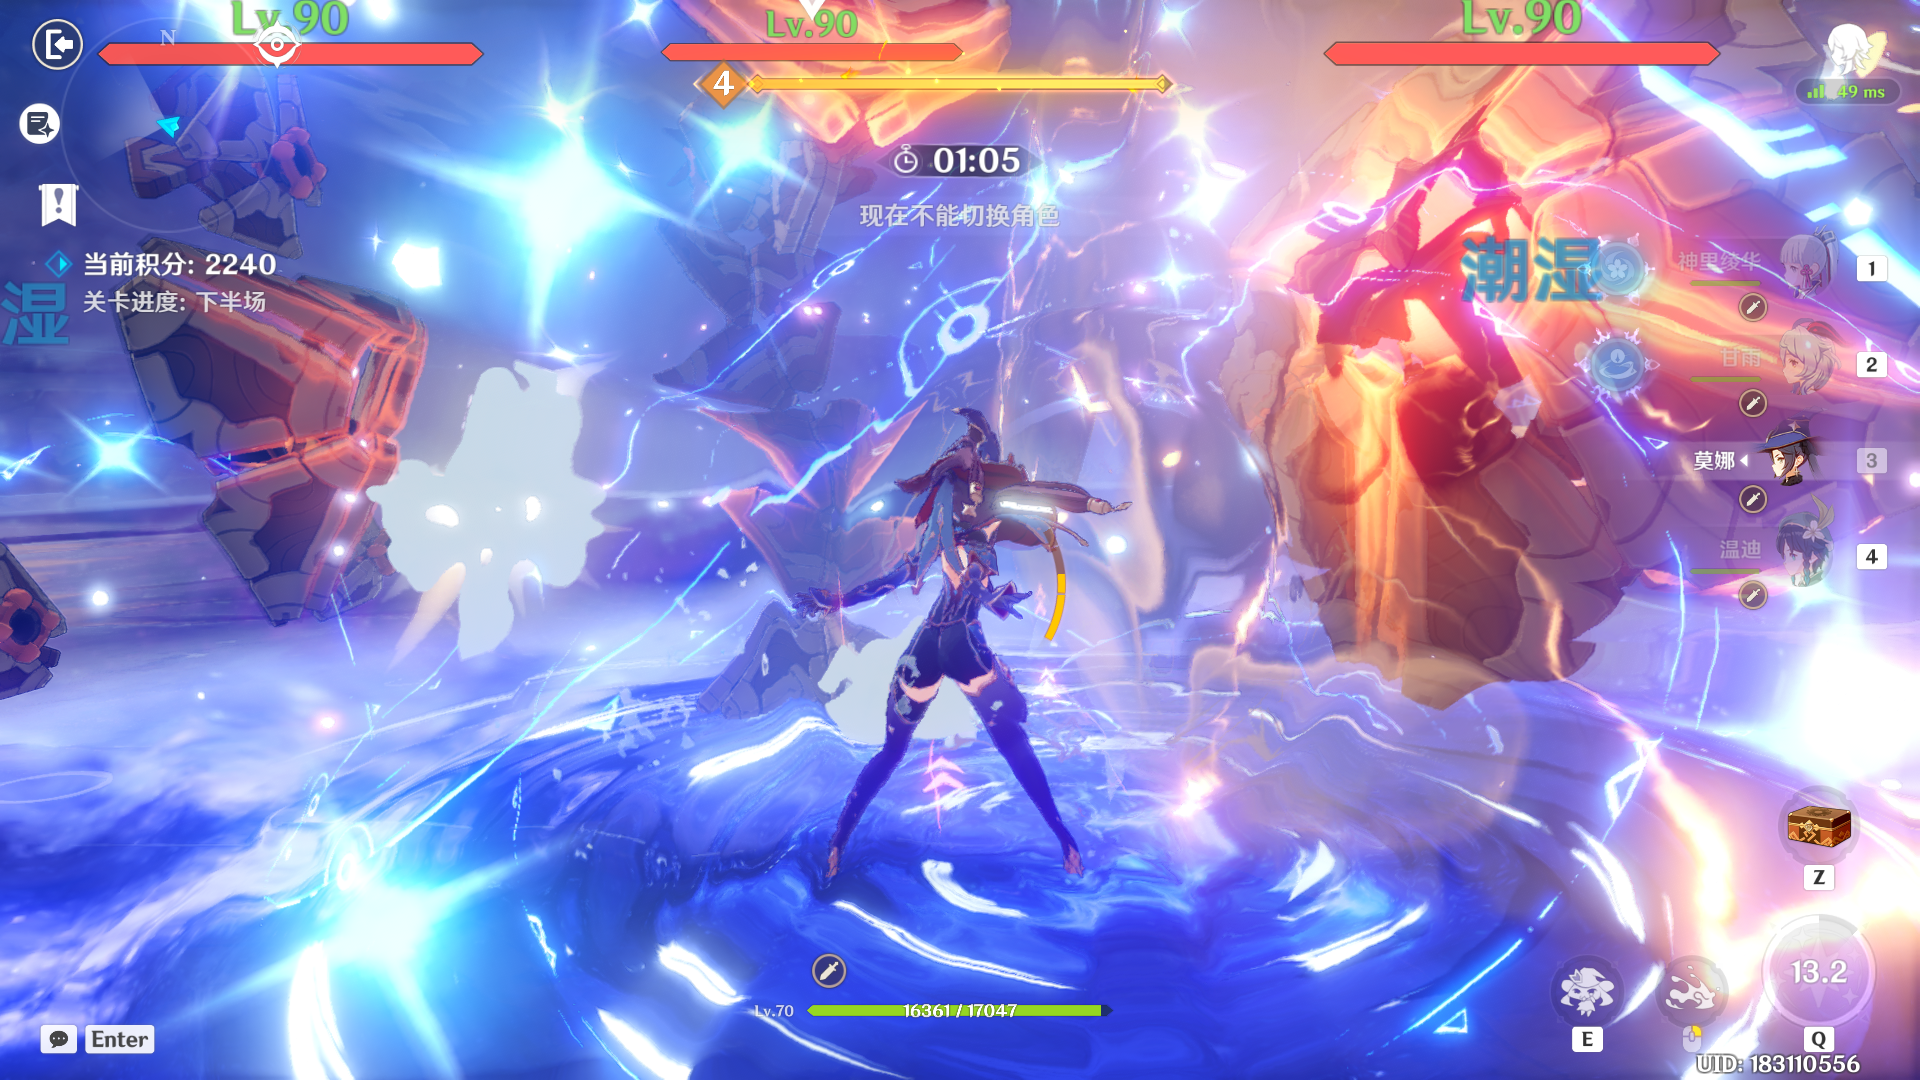character: (791, 389, 1143, 910)
